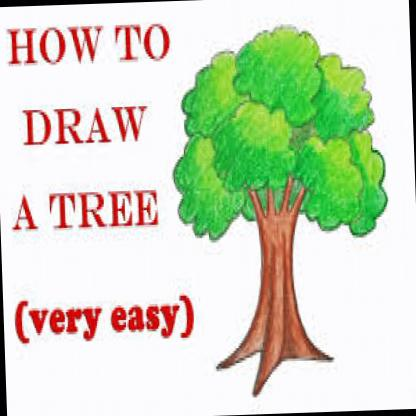branch_cut: (248, 170, 309, 232)
crown_cloud: (169, 22, 389, 246)
root_only: (214, 317, 338, 402)
trunk_bark: (254, 249, 298, 306)
